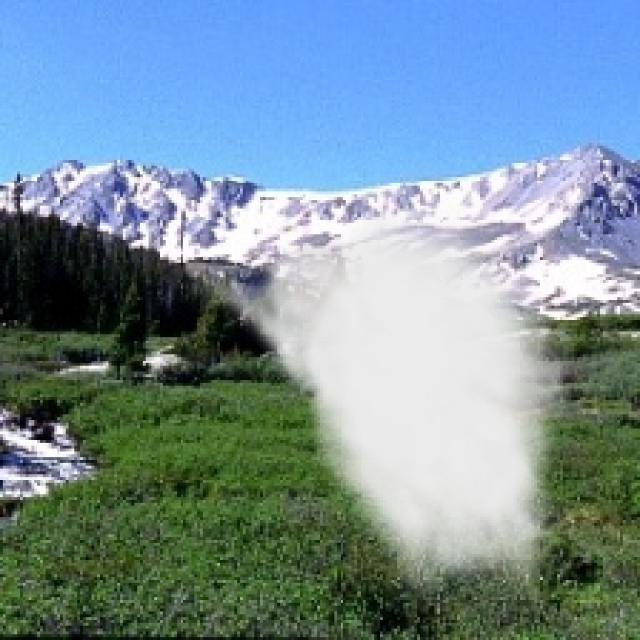smoke: (189, 189, 577, 614)
